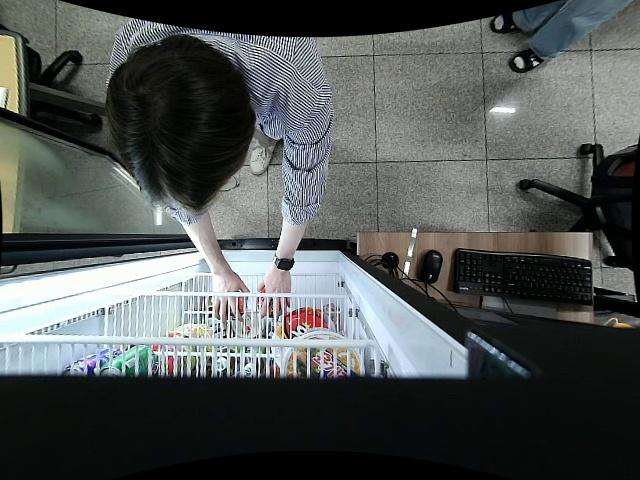00_hand: (211, 275, 251, 323), (259, 274, 292, 319)
02_shinRamen_S: (257, 287, 289, 316)
